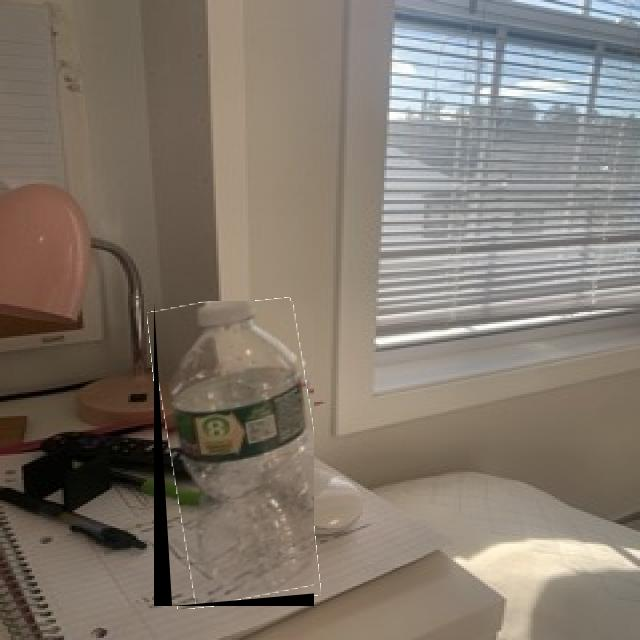water_bottle: (154, 301, 314, 606)
